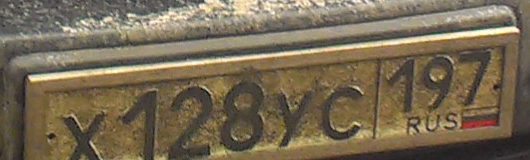character: (169, 82, 217, 160), (222, 81, 267, 155), (319, 81, 367, 146), (120, 89, 161, 160), (274, 86, 317, 151), (62, 108, 110, 160), (420, 54, 456, 115), (456, 47, 492, 105), (386, 56, 417, 115)
